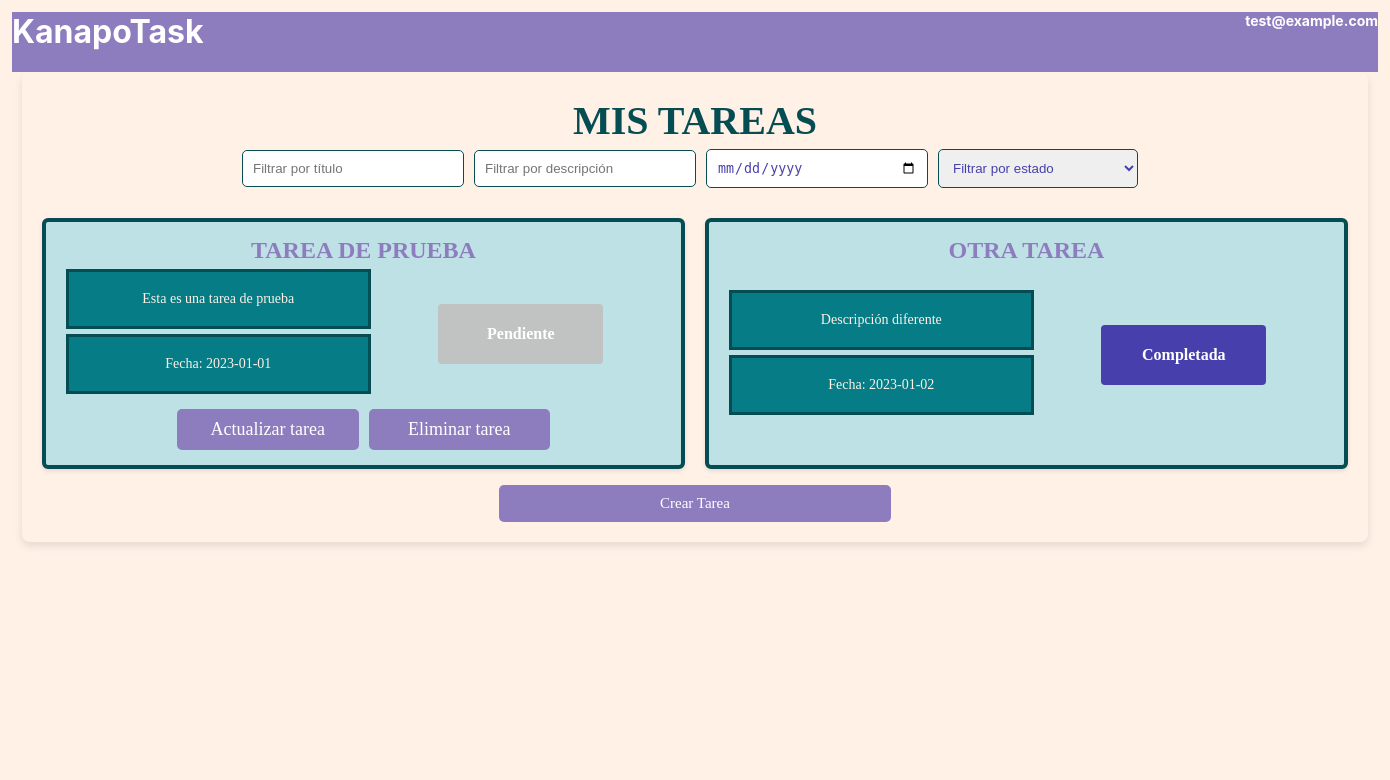
it: Prueba básica del componente Tasks › Filtra tareas por título
This screenshot has width=1390, height=780.
Expected: the heading "TAREA DE PRUEBA" is shown, 251,237 -> 476,263
# Filtrar por título
In the field with placeholder "Filtrar por título": (353, 169) 242,150 -> 464,187, type "prueba"
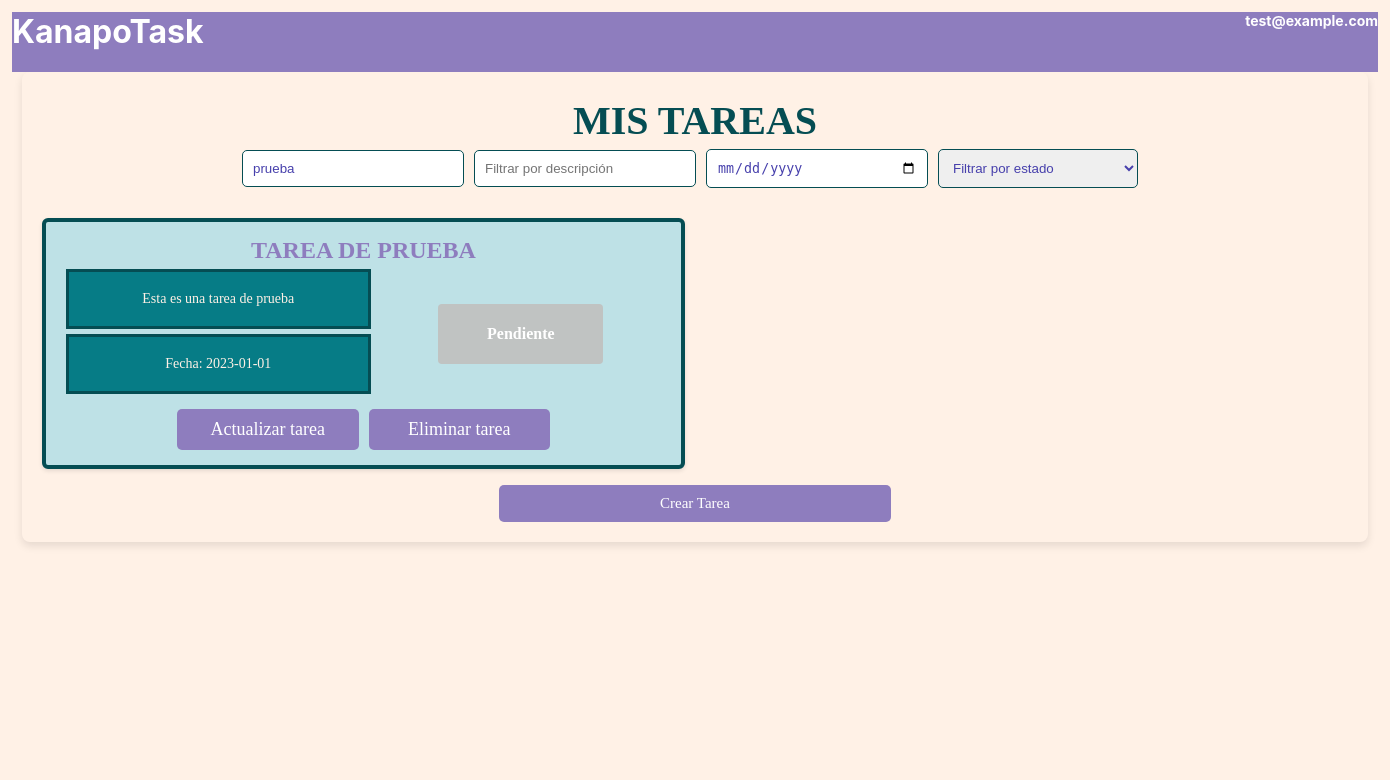
Expected: the heading "TAREA DE PRUEBA" is shown, 251,237 -> 476,263
Expected: the heading "OTRA TAREA" is gone
